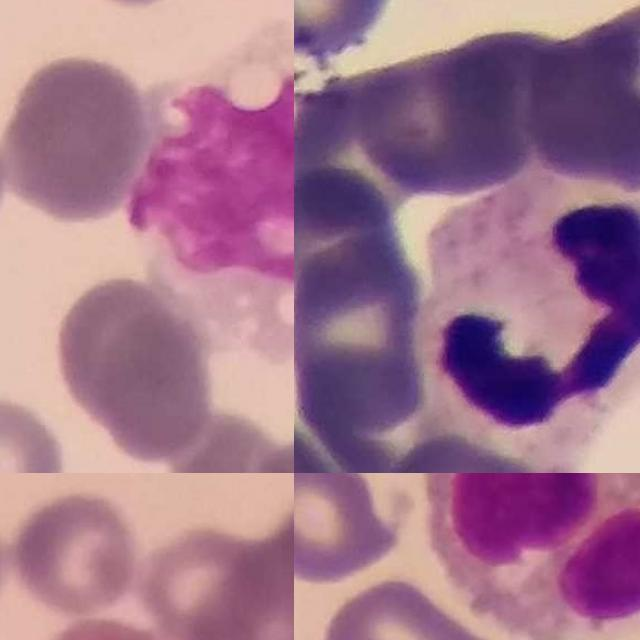Eosinophil: (427, 473, 640, 640)
Monocyte: (123, 18, 294, 348)
Neutrophil: (423, 175, 640, 464)
